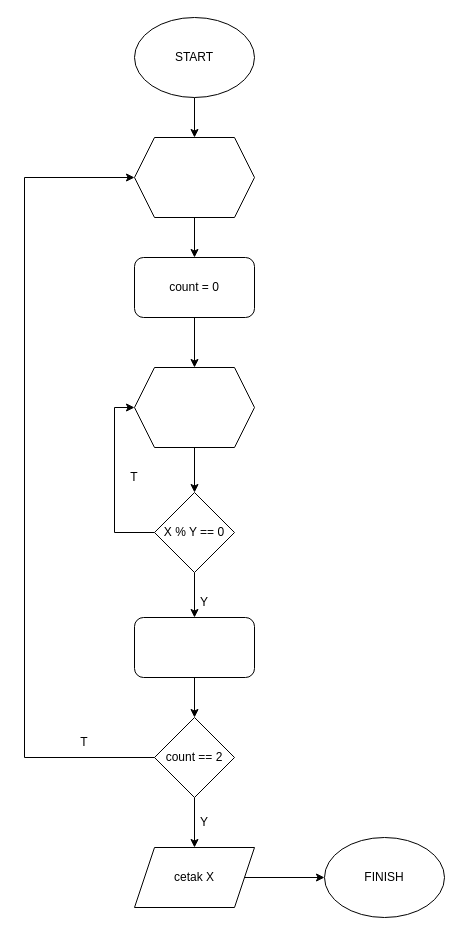
Image size: 462x935. Some labels were removed from this diagram. The shapes that lost their labels are listed below. From the top down, each one's box as (x1, y1, x2, y2) in pixels, then its label:
(134, 136, 254, 218): int X=1, X<=100,X++
(134, 366, 254, 448): int Y=1, Y<=X,Y++
(134, 616, 254, 678): count = count + 1
